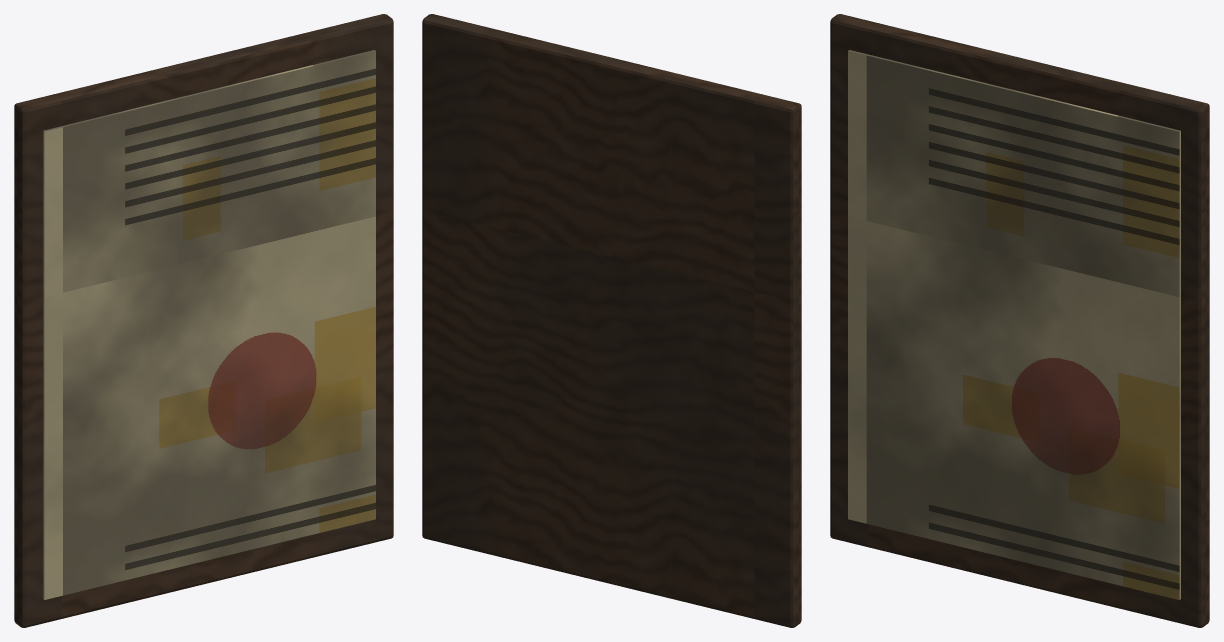
The model's file is F37_warning_poster_v1.glb.
The picture shows the model from 3 angles, left to right: view 1: azimuth 30°, elevation 25°; view 2: azimuth 150°, elevation 25°; view 3: azimuth 330°, elevation 25°; orthographic projection.
Visible parts, largest first — view 1: F37_warning_poster_v1; view 2: F37_warning_poster_v1; view 3: F37_warning_poster_v1.
Part boxes in pixels (<box>): F37_warning_poster_v1: <box>14,14,393,627</box>; F37_warning_poster_v1: <box>422,14,801,627</box>; F37_warning_poster_v1: <box>830,14,1209,627</box>.
Size of the model in its own units: 0.45 by 0.6 by 0.023.
Materials: 2 (2 with a texture image).
